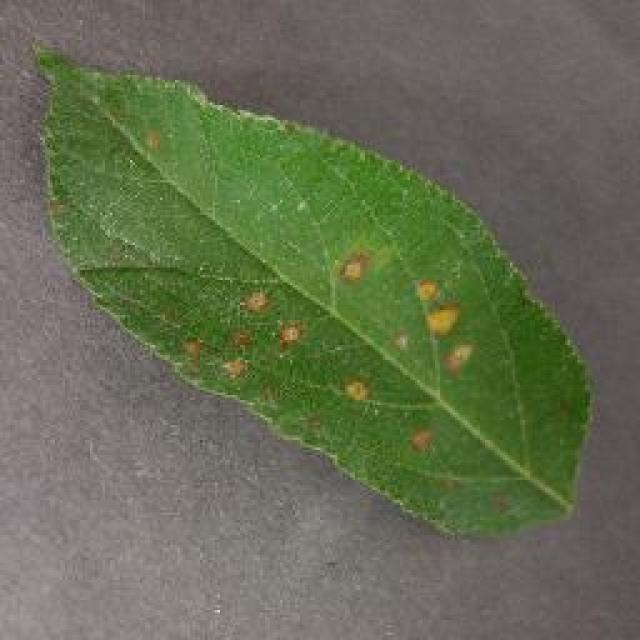apple rust disease: (28, 35, 592, 540)
